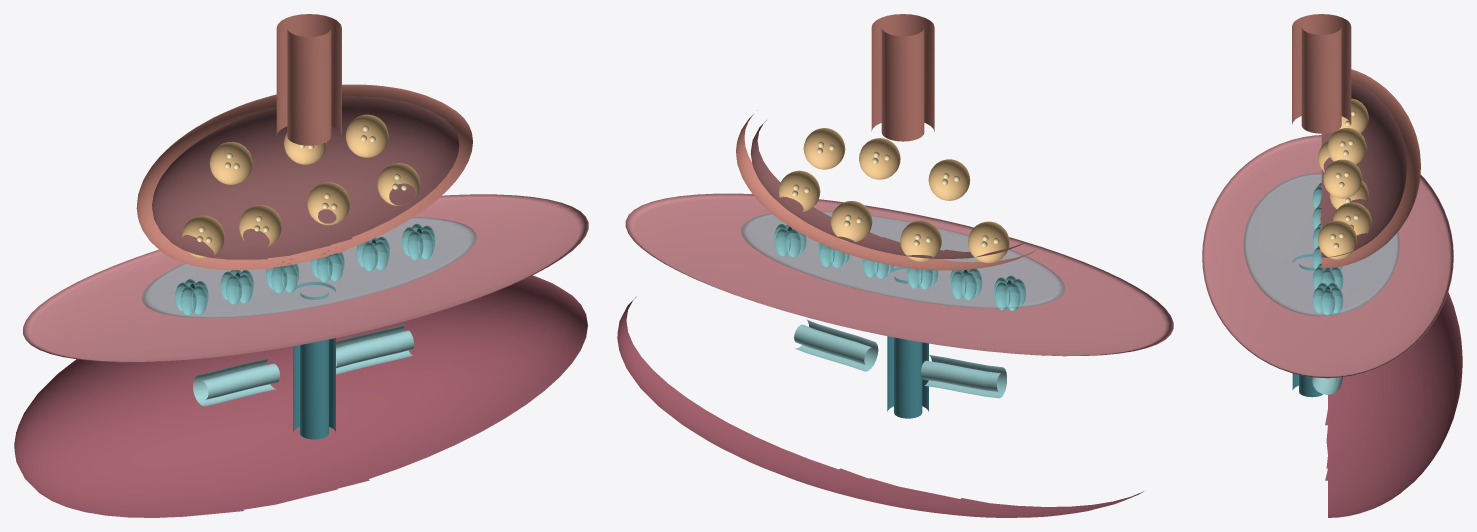
The model's file is neuromuscular_junction.glb.
The picture shows the model from 3 angles, left to right: view 1: azimuth 30°, elevation 25°; view 2: azimuth 150°, elevation 25°; view 3: azimuth 270°, elevation 25°; orthographic projection. The views are drawn at different scales.
Visible parts, largest first — view 1: MuscleFiber, Sarcolemma, TerminalInterior, SynapticCleft, Terminal, Axon, TTubule, SR_Cisterna_L, SR_Cisterna_R, Vesicle_05, Vesicle_07, Vesicle_03 (+10 smaller); view 2: Sarcolemma, SynapticCleft, MuscleFiber, Axon, Terminal, TTubule, TerminalInterior, SR_Cisterna_L, SR_Cisterna_R, Vesicle_06, Vesicle_05, Vesicle_07 (+7 smaller); view 3: Sarcolemma, MuscleFiber, SynapticCleft, Axon, TerminalInterior, Terminal, Vesicle_04, Vesicle_07, Vesicle_06, Receptor_06, Vesicle_03, TTubule (+4 smaller).
Boxes of the visible parts, left/top/right/bottom form: MuscleFiber: left=14, top=275, right=587, bottom=517; Sarcolemma: left=23, top=194, right=588, bottom=362; TerminalInterior: left=152, top=96, right=459, bottom=259; SynapticCleft: left=141, top=217, right=476, bottom=318; Terminal: left=136, top=84, right=472, bottom=270; Axon: left=276, top=14, right=341, bottom=145; TTubule: left=293, top=282, right=335, bottom=439; SR_Cisterna_L: left=193, top=358, right=280, bottom=406; SR_Cisterna_R: left=336, top=324, right=414, bottom=374; Vesicle_05: left=209, top=142, right=252, bottom=184; Vesicle_07: left=345, top=114, right=388, bottom=157; Vesicle_03: left=307, top=182, right=350, bottom=225; Sarcolemma: left=625, top=193, right=1173, bottom=356; SynapticCleft: left=740, top=211, right=1065, bottom=308; MuscleFiber: left=617, top=296, right=1143, bottom=517; Axon: left=871, top=14, right=934, bottom=141; Terminal: left=736, top=110, right=1036, bottom=270; TTubule: left=887, top=267, right=928, bottom=418; TerminalInterior: left=750, top=120, right=1023, bottom=258; SR_Cisterna_L: left=921, top=354, right=1006, bottom=398; SR_Cisterna_R: left=794, top=319, right=878, bottom=371; Vesicle_06: left=859, top=138, right=900, bottom=179; Vesicle_05: left=928, top=159, right=970, bottom=200; Vesicle_07: left=803, top=128, right=845, bottom=169; Sarcolemma: left=1202, top=135, right=1453, bottom=378; MuscleFiber: left=1325, top=292, right=1462, bottom=517; SynapticCleft: left=1243, top=172, right=1399, bottom=316; Axon: left=1292, top=14, right=1351, bottom=133; TerminalInterior: left=1319, top=81, right=1407, bottom=257; Terminal: left=1319, top=69, right=1420, bottom=268; Vesicle_04: left=1318, top=220, right=1356, bottom=259; Vesicle_07: left=1323, top=159, right=1362, bottom=198; Vesicle_06: left=1327, top=128, right=1366, bottom=164; Receptor_06: left=1312, top=283, right=1343, bottom=315; Vesicle_03: left=1333, top=202, right=1371, bottom=235; TTubule: left=1292, top=254, right=1322, bottom=397.
Size of the model in its own units: 11.2 by 8.95 by 4.93.
